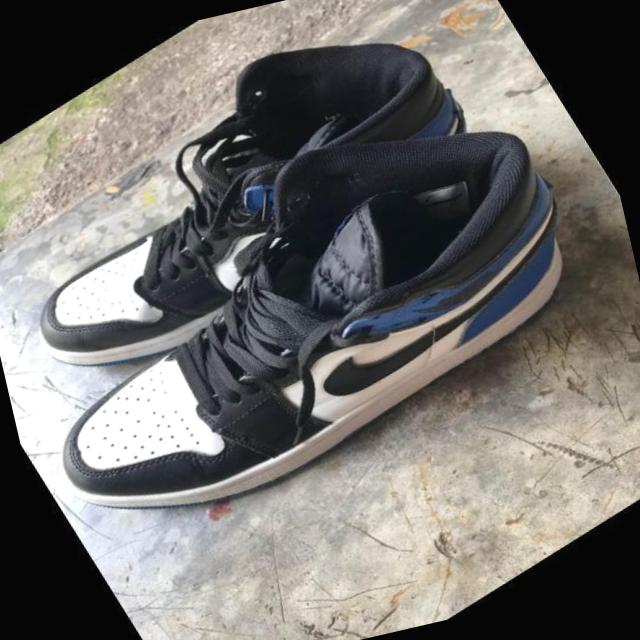nike_fake_jordan: (0, 11, 640, 595), (0, 0, 526, 423)
